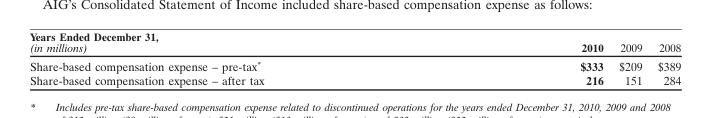table: (29, 29, 680, 87)
table column: (29, 29, 421, 87), (421, 29, 610, 87), (610, 29, 649, 87), (649, 29, 680, 87)
table column header: (29, 29, 680, 56)
table row: (29, 29, 680, 56), (29, 56, 680, 73), (29, 73, 680, 87)
